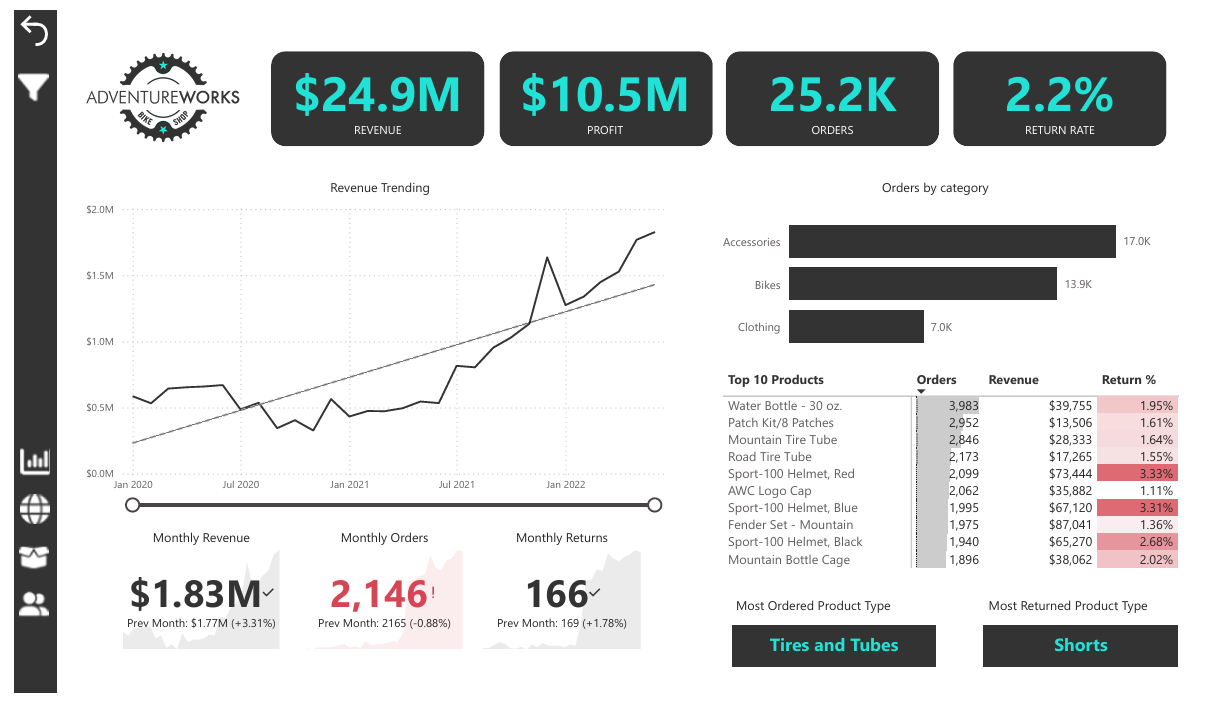

The dashboard page shown, as its layout file describes it:
{"tool":"powerbi","page":{"name":"Exec Dashboard","canvas":[1280,720],"ordinal":0},"visuals":[{"type":"image","title":"AW Logo","box":[53.8,15.9,207.9,152.9],"z":0},{"type":"card","fields":{"Values":["Measure Table.Total Revenue"]},"box":[281.2,17.5,205,151.2],"z":0,"group":"g3"},{"type":"shape","box":[271.2,42.5,225,100],"z":0,"group":"g2"},{"type":"actionButton","box":[2.4,456.1,45.2,39.1],"z":0,"group":"g4"},{"type":"shape","title":"Left Nav Background","box":[0,0,45,720],"z":1000},{"type":"card","fields":{"Values":["Measure Table.Total Profit"]},"box":[521.2,17.5,205,151.2],"z":1000,"group":"g3"},{"type":"shape","box":[751.2,42.5,225,100],"z":1000,"group":"g2"},{"type":"actionButton","box":[1.2,606.5,45.2,39.1],"z":1000,"group":"g4"},{"type":"group","id":"g1","title":"KPIs","box":[271.2,17.5,945,151.2],"z":2000},{"type":"card","fields":{"Values":["Measure Table.Total Orders"]},"box":[761.2,17.5,205,151.2],"z":2000,"group":"g3"},{"type":"group","id":"g2","title":"KPI Background","box":[271.2,42.5,945,100],"z":2000,"group":"g1"},{"type":"shape","box":[512.4,42.5,225,100],"z":2000,"group":"g2"},{"type":"actionButton","box":[1.2,557.6,45.2,39.1],"z":2000,"group":"g4"},{"type":"group","id":"g3","title":"KPI Values","box":[281.2,17.5,925,151.2],"z":3000,"group":"g1"},{"type":"card","fields":{"Values":["Measure Table.Return Rate"]},"box":[1001.2,17.5,205,151.2],"z":3000,"group":"g3"},{"type":"shape","box":[991.2,42.5,225,100],"z":3000,"group":"g2"},{"type":"lineChart","title":"Revenue Trending","fields":{"Y":["Measure Table.Total Revenue"],"Category":["Calendar Lookup.Date Hierarchy.Start of Year","Calendar Lookup.Date Hierarchy.Start of Month","Calendar Lookup.Date Hierarchy.Start of Week","Calendar Lookup.Date Hierarchy.Date"]},"box":[69.7,177.3,632.2,354.6],"z":3000},{"type":"actionButton","box":[2.4,506.2,45.2,39.1],"z":3000,"group":"g4"},{"type":"kpi","title":"Monthly Revenue","fields":{"Indicator":["Measure Table.Total Revenue"],"TrendLine":["Calendar Lookup.Start of Month"],"Goal":["Measure Table.Previous month revenue"]},"box":[110.1,546.6,174.9,132.1],"z":4000},{"type":"kpi","title":"Monthly Orders","fields":{"TrendLine":["Calendar Lookup.Start of Month"],"Indicator":["Measure Table.Total Orders"],"Goal":["Measure Table.Previous month orders"]},"box":[303.3,546.6,174.9,132.1],"z":5000},{"type":"kpi","title":"Monthly Returns","fields":{"TrendLine":["Calendar Lookup.Start of Month"],"Indicator":["Measure Table.Total Returns"],"Goal":["Measure Table.Previous month returns"]},"box":[490.4,546.6,176.1,132.1],"z":6000},{"type":"clusteredBarChart","title":"Orders by category","fields":{"Category":["Product Categories Lookup.CategoryName"],"Y":["Measure Table.Total Orders"]},"box":[737.5,177.5,468.8,197.5],"z":7000},{"type":"pivotTable","fields":{"Rows":["Product Lookup.ProductName"],"Values":["Measure Table.Total Orders","Measure Table.Total Revenue","Measure Table.Return Rate"]},"box":[743.8,375,510,223.8],"z":8000},{"type":"card","fields":{"Values":["Min(Product Subcategories Lookup.SubcategoryName)"]},"box":[757.5,648.8,215,43.8],"z":9000},{"type":"textbox","box":[756.9,613.9,199.3,28.1],"z":10000},{"type":"card","fields":{"Values":["Min(Product Subcategories Lookup.SubcategoryName)"]},"box":[1023.8,648.8,205,43.8],"z":11000},{"type":"textbox","box":[1023.8,613.8,191.2,28.8],"z":12000},{"type":"actionButton","box":[0,0,45.2,42.8],"z":13000},{"type":"group","id":"g4","title":"Navigation Buttons","box":[1.2,456.1,46.5,189.5],"z":14000},{"type":"actionButton","box":[0,61.1,45.2,40.4],"z":15000}]}

Visuals, with their boxes on the page's 1280x720 design canvas (x1, y1, x2, y2). These are canvas units, not pixel positions in the 1212x705 screenshot, which may show the page scaled, cropped or inside an application window:
"AW Logo" image: [54, 16, 262, 169]
card - Measure Table.Total Revenue: [281, 18, 486, 169]
shape: [271, 42, 496, 142]
actionButton: [2, 456, 48, 495]
"Left Nav Background" shape: [0, 0, 45, 720]
card - Measure Table.Total Profit: [521, 18, 726, 169]
shape: [751, 42, 976, 142]
actionButton: [1, 606, 46, 646]
"KPIs" group: [271, 18, 1216, 169]
card - Measure Table.Total Orders: [761, 18, 966, 169]
"KPI Background" group: [271, 42, 1216, 142]
shape: [512, 42, 737, 142]
actionButton: [1, 558, 46, 597]
"KPI Values" group: [281, 18, 1206, 169]
card - Measure Table.Return Rate: [1001, 18, 1206, 169]
shape: [991, 42, 1216, 142]
"Revenue Trending" lineChart: [70, 177, 702, 532]
actionButton: [2, 506, 48, 545]
"Monthly Revenue" kpi: [110, 547, 285, 679]
"Monthly Orders" kpi: [303, 547, 478, 679]
"Monthly Returns" kpi: [490, 547, 666, 679]
"Orders by category" clusteredBarChart: [738, 178, 1206, 375]
pivotTable - Product Lookup.ProductName x Measure Table.Total Orders: [744, 375, 1254, 599]
card - Min(Product Subcategories Lookup.SubcategoryName): [758, 649, 972, 693]
textbox: [757, 614, 956, 642]
card - Min(Product Subcategories Lookup.SubcategoryName): [1024, 649, 1229, 693]
textbox: [1024, 614, 1215, 643]
actionButton: [0, 0, 45, 43]
"Navigation Buttons" group: [1, 456, 48, 646]
actionButton: [0, 61, 45, 102]
